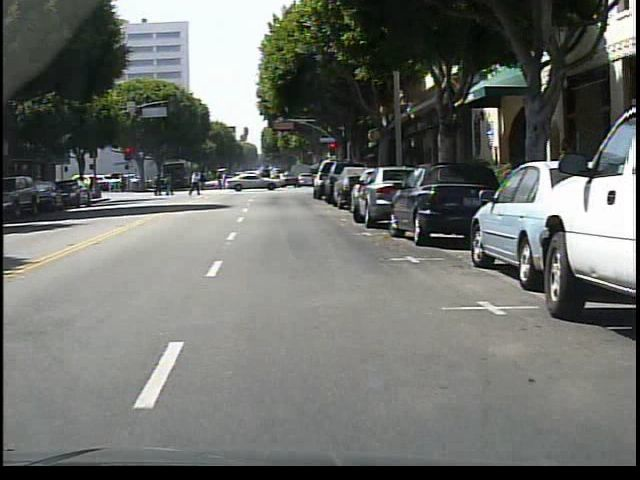person: (184, 167, 204, 197)
